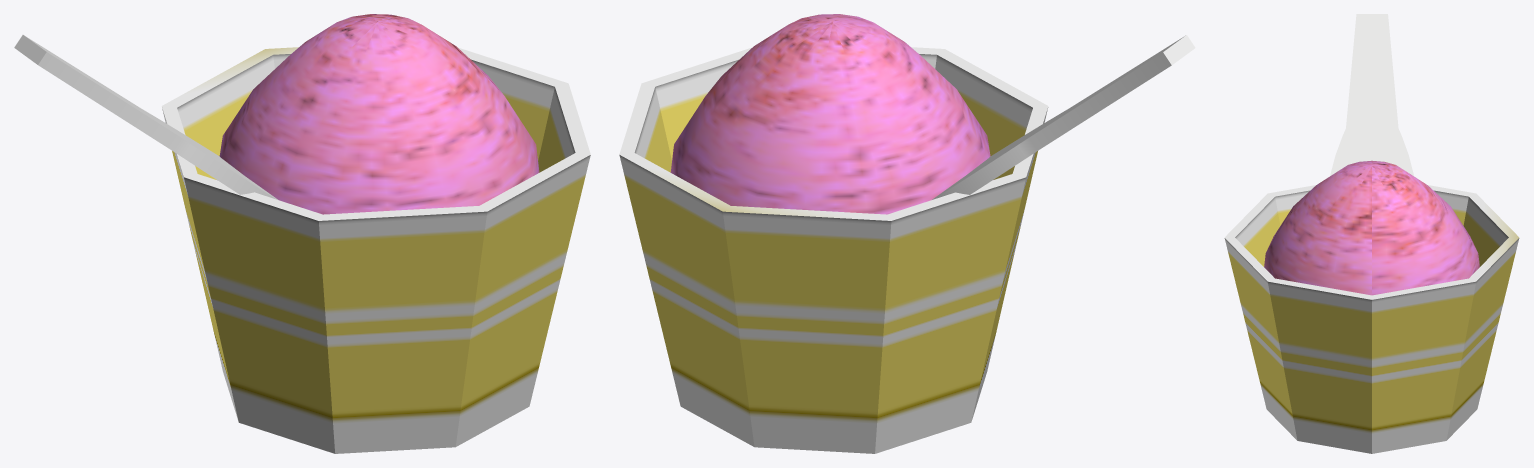
The model's file is IceCream_CupB.fbx.
3 views of the same model, side by side, from view 1: azimuth 30°, elevation 25°; view 2: azimuth 150°, elevation 25°; view 3: azimuth 270°, elevation 25° (orthographic). The views are drawn at different scales.
Visible parts, largest first — view 1: IceCupB, IceCream_CupB, IceCreamSpoonB; view 2: IceCupB, IceCream_CupB, IceCreamSpoonB; view 3: IceCupB, IceCream_CupB, IceCreamSpoonB.
Part boxes in pixels (x1,y1,x2,y2): IceCupB: (161, 47, 590, 453); IceCream_CupB: (219, 14, 539, 214); IceCreamSpoonB: (14, 35, 277, 199); IceCupB: (619, 47, 1048, 453); IceCream_CupB: (670, 14, 990, 214); IceCreamSpoonB: (932, 35, 1195, 199); IceCupB: (1224, 185, 1519, 453); IceCream_CupB: (1264, 160, 1479, 295); IceCreamSpoonB: (1330, 14, 1414, 176).
Size of the model in its own units: 163 by 123 by 115.
